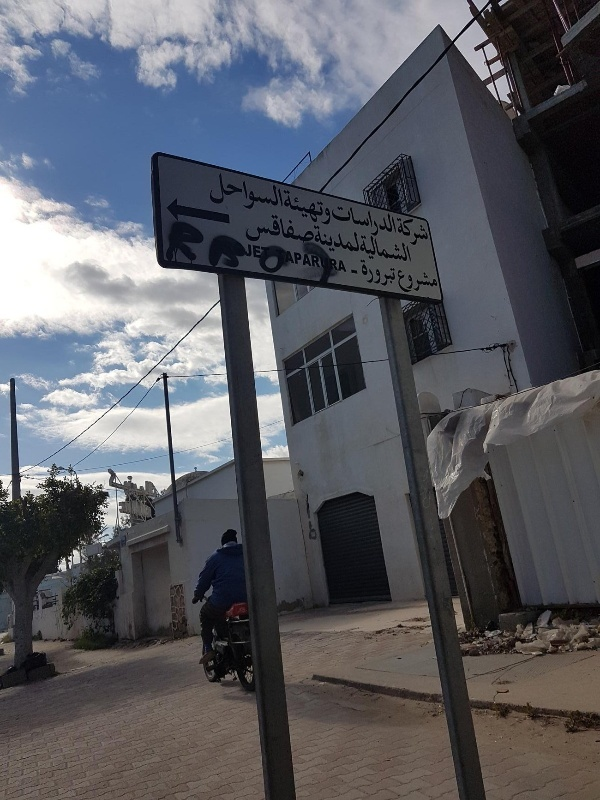text: (177, 219, 192, 275), (193, 219, 208, 275), (209, 219, 224, 275), (225, 219, 240, 275), (241, 219, 256, 275), (257, 219, 272, 275), (273, 219, 288, 275), (225, 171, 240, 214), (241, 171, 256, 214), (257, 171, 272, 214), (337, 203, 352, 245), (353, 203, 368, 245), (369, 203, 384, 245), (385, 203, 399, 245), (289, 188, 304, 227), (305, 188, 320, 227), (401, 215, 416, 250), (273, 171, 285, 214), (241, 241, 256, 274), (257, 241, 272, 274), (273, 241, 288, 274), (289, 241, 304, 274), (305, 241, 320, 274), (321, 241, 336, 274), (417, 215, 431, 250), (321, 225, 336, 257), (337, 225, 352, 257), (257, 212, 272, 244), (273, 212, 288, 244), (289, 212, 304, 244), (321, 188, 333, 227), (369, 233, 384, 264), (385, 233, 400, 264), (369, 258, 384, 289), (401, 233, 414, 264), (337, 241, 349, 274), (215, 171, 224, 214), (401, 268, 416, 293), (417, 268, 432, 293), (385, 258, 396, 289), (305, 212, 315, 244), (353, 225, 362, 257), (359, 233, 368, 264), (281, 188, 288, 227), (361, 258, 368, 289), (331, 203, 336, 245), (314, 225, 320, 257), (395, 215, 400, 250), (433, 268, 440, 293), (173, 219, 176, 275), (236, 241, 240, 274), (397, 268, 400, 293), (353, 269, 359, 275), (255, 212, 256, 244), (350, 269, 352, 275)
